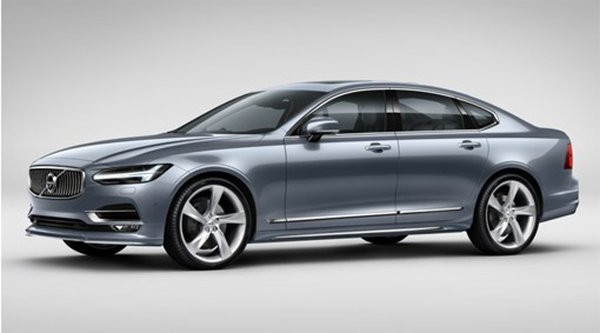sedan: (26, 76, 580, 269)
